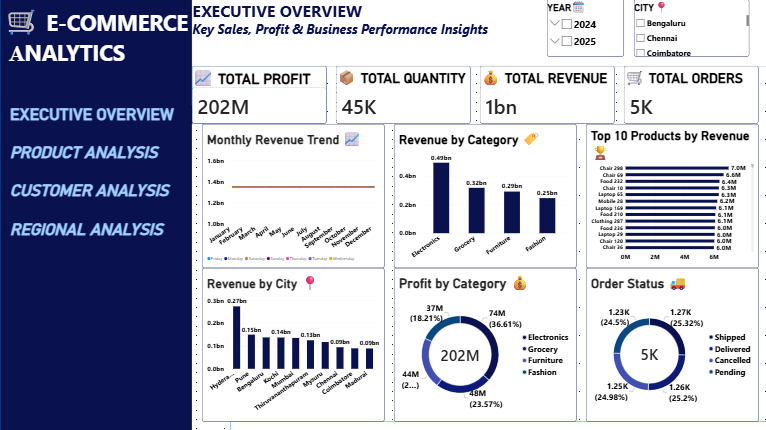

What the dashboard file says about the page in this screenshot:
{"tool":"powerbi","page":{"name":"EXECUTIVE OVERVIEW ","canvas":[2560,1440],"ordinal":1},"visuals":[{"type":"shape","box":[0,0,640,1440],"z":0},{"type":"textbox","box":[10,10,800,224],"z":1000},{"type":"shape","title":"PRODUCT ANALYSIS","box":[32,480,544,64],"z":2000},{"type":"shape","title":"CUSTOMER ANALYSIS","box":[32,608,640,64],"z":3000},{"type":"shape","title":"REGIONAL ANALYSIS","box":[32,736,608,64],"z":4000},{"type":"shape","title":"EXECUTIVE OVERVIEW","box":[32,352,608,64],"z":5000},{"type":"textbox","box":[100,100,300,300],"z":6000},{"type":"shape","box":[768,1408,1792,32],"z":7000},{"type":"textbox","box":[640,0,1920,224],"z":12000},{"type":"slicer","title":"YEAR🗓️","fields":{"Values":["Calendar.Year","Calendar.Quarter","Calendar.Month"]},"box":[1824,0,256,192],"z":13000},{"type":"slicer","title":"CITY📍","fields":{"Values":["Customers.City"]},"box":[2112,0,384,192],"z":14000},{"type":"cardVisual","title":"📈 TOTAL PROFIT","fields":{"Data":["Order_Items.Total Profit"]},"box":[640,224,448,192],"z":15000},{"type":"cardVisual","title":"📦 TOTAL QUANTITY","fields":{"Data":["Order_Items.Total Quantity"]},"box":[1120,224,448,192],"z":16000},{"type":"cardVisual","title":"💰 TOTAL REVENUE","fields":{"Data":["Order_Items.Total Revenue"]},"box":[1600,224,448,192],"z":17000},{"type":"cardVisual","title":"🛒 TOTAL ORDERS","fields":{"Data":["Orders.Total Orders"]},"box":[2080,224,448,192],"z":18000},{"type":"lineChart","title":"Monthly Revenue Trend 📈","fields":{"Category":["Calendar.Date.Variation.Date Hierarchy.Month"],"Series":["Calendar.Day"],"Y":["Order_Items.Total Revenue"]},"box":[672,416,608,480],"z":19000},{"type":"clusteredColumnChart","title":"Revenue by Category 🏷️","fields":{"Category":["Products.Category"],"Y":["Order_Items.Total Revenue"]},"box":[1312,416,608,480],"z":20000},{"type":"clusteredBarChart","title":"Top 10 Products by Revenue 🏆","fields":{"Category":["Products.ProductName"],"Y":["Order_Items.Total Revenue"]},"box":[1952,416,576,480],"z":21000},{"type":"clusteredColumnChart","title":"Revenue by City 📍","fields":{"Category":["Customers.City"],"Y":["Order_Items.Total Revenue"]},"box":[672,896,608,512],"z":22000},{"type":"donutChart","title":"Profit by Category 💰","fields":{"Category":["Products.Category"],"Y":["Order_Items.Total Profit"]},"box":[1312,896,608,512],"z":23000},{"type":"donutChart","title":"Order Status 🚚","fields":{"Category":["Orders.OrderStatus"],"Y":["CountNonNull(Orders.OrderID)"]},"box":[1952,896,576,512],"z":24000}]}

Visuals, with their boxes in screenshot pixels (x1, y1, x2, y2), scaled from the page's 2560x1440 canvas onto the 766x430 screenshot:
shape: rect(0, 0, 192, 429)
textbox: rect(3, 3, 242, 70)
"PRODUCT ANALYSIS" shape: rect(10, 143, 172, 162)
"CUSTOMER ANALYSIS" shape: rect(10, 182, 201, 201)
"REGIONAL ANALYSIS" shape: rect(10, 220, 192, 239)
"EXECUTIVE OVERVIEW" shape: rect(10, 105, 192, 124)
textbox: rect(30, 30, 120, 119)
shape: rect(230, 420, 765, 429)
textbox: rect(192, 0, 765, 67)
"YEAR🗓️" slicer: rect(546, 0, 622, 57)
"CITY📍" slicer: rect(632, 0, 747, 57)
"📈 TOTAL PROFIT" cardVisual: rect(192, 67, 326, 124)
"📦 TOTAL QUANTITY" cardVisual: rect(335, 67, 469, 124)
"💰 TOTAL REVENUE" cardVisual: rect(479, 67, 613, 124)
"🛒 TOTAL ORDERS" cardVisual: rect(622, 67, 756, 124)
"Monthly Revenue Trend 📈" lineChart: rect(201, 124, 383, 268)
"Revenue by Category 🏷️" clusteredColumnChart: rect(393, 124, 574, 268)
"Top 10 Products by Revenue 🏆" clusteredBarChart: rect(584, 124, 756, 268)
"Revenue by City 📍" clusteredColumnChart: rect(201, 268, 383, 420)
"Profit by Category 💰" donutChart: rect(393, 268, 574, 420)
"Order Status 🚚" donutChart: rect(584, 268, 756, 420)
